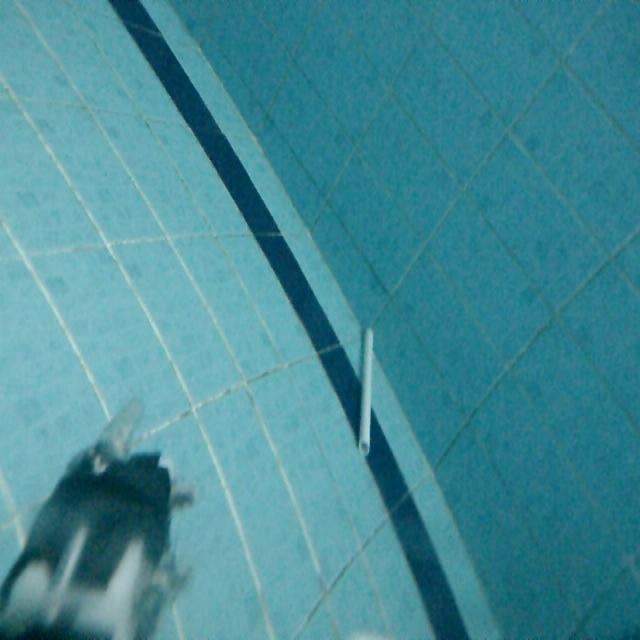Cube: (355, 326, 379, 463)
